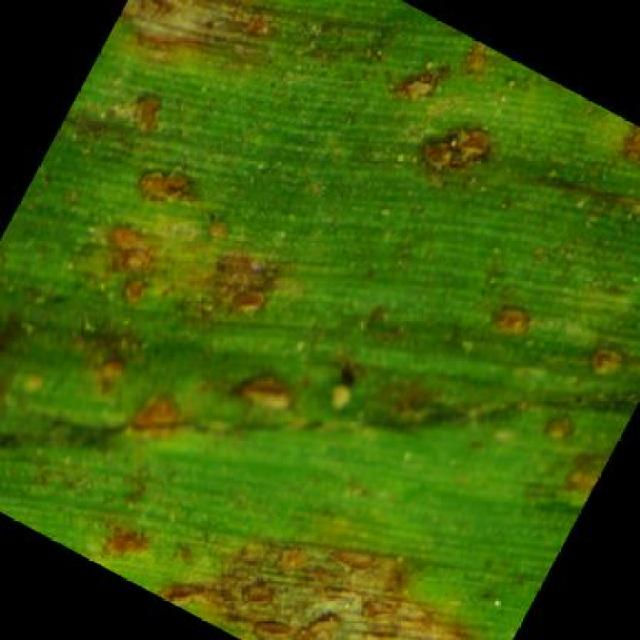Corn_Rust: (79, 86, 566, 542)
